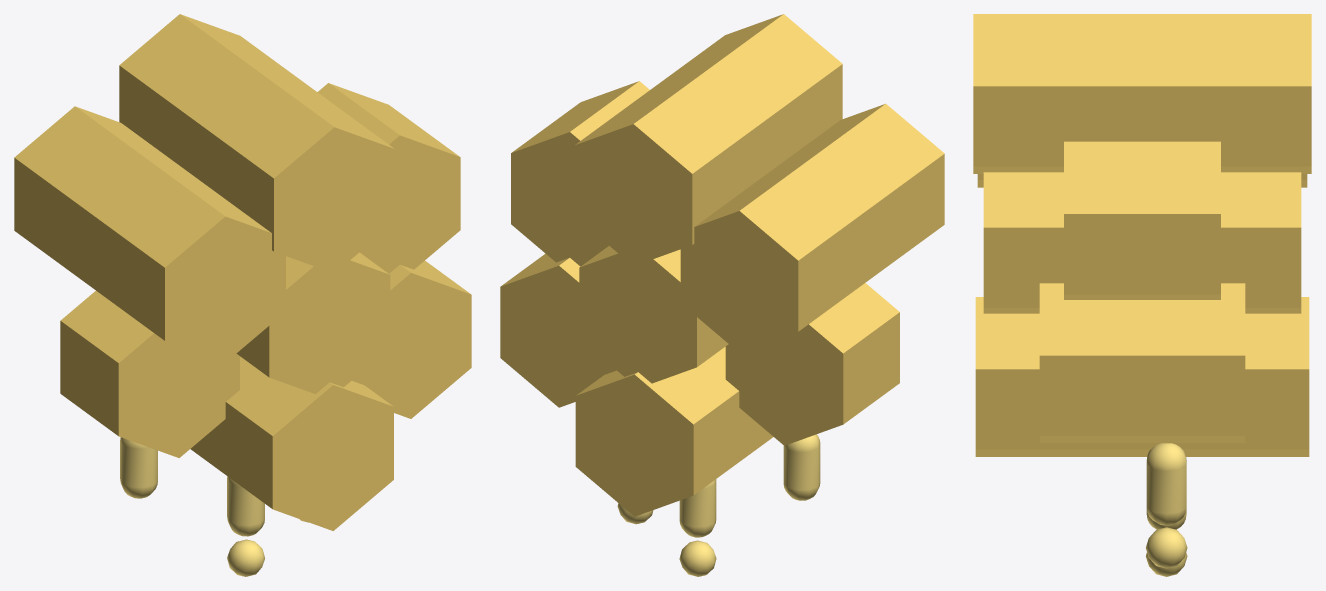
The model's file is Honeycomb.glb.
3 views of the same model, side by side, from view 1: azimuth 30°, elevation 25°; view 2: azimuth 150°, elevation 25°; view 3: azimuth 270°, elevation 25° (orthographic). The views are drawn at different scales.
Visible parts, largest first — view 1: Comb, Honey; view 2: Comb, Honey; view 3: Comb, Honey.
Boxes of the visible parts, box(x1,y1,x2,y2) form: Comb: box(14, 14, 471, 530); Honey: box(120, 437, 308, 576); Comb: box(500, 14, 944, 516); Honey: box(617, 434, 820, 576); Comb: box(973, 14, 1311, 456); Honey: box(1145, 443, 1187, 576).
Bounding box in the file's own units: 2.63 × 3.85 × 2.1.
